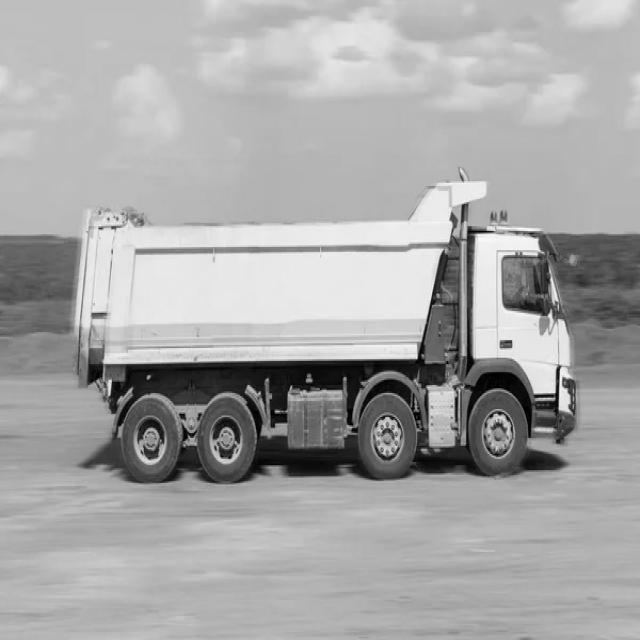Truck: (74, 170, 579, 482)
